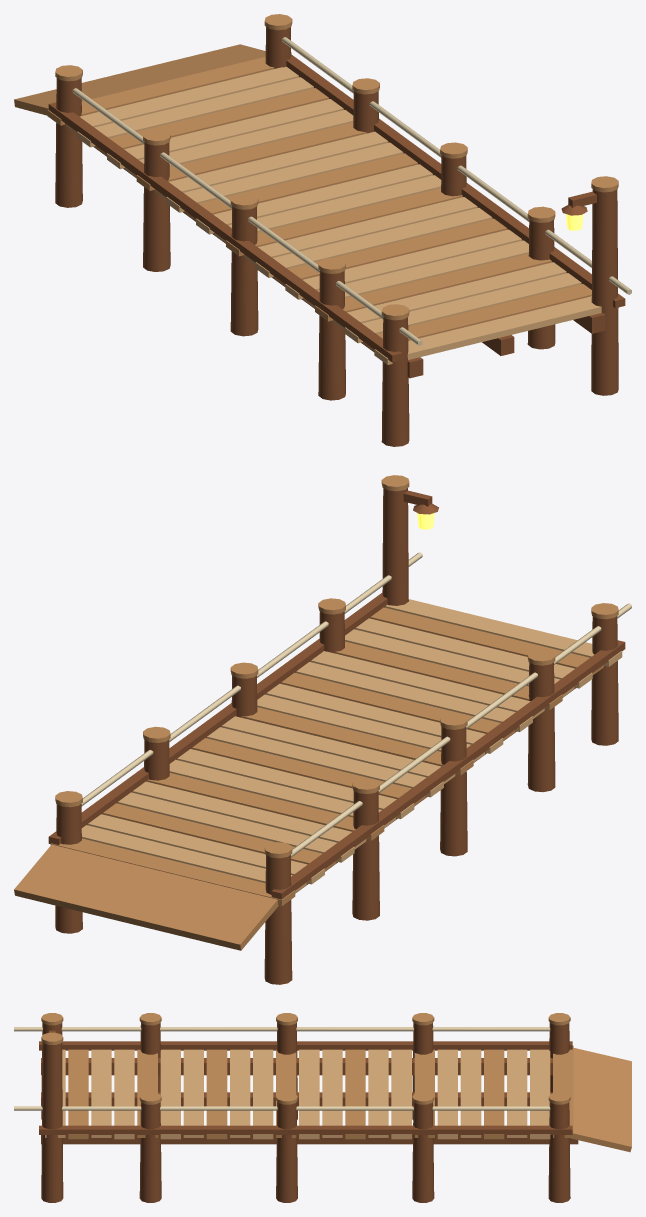
3 renders of one model, top to bottom at view 1: azimuth 30°, elevation 25°; view 2: azimuth 150°, elevation 25°; view 3: azimuth 270°, elevation 25°, orthographic. The views are drawn at different scales.
Visible parts, largest first — view 1: __optimized_merged_material_2, __optimized_merged_material_0, __optimized_merged_material_1, __optimized_merged_material_4; view 2: __optimized_merged_material_2, __optimized_merged_material_1, __optimized_merged_material_0, __optimized_merged_material_4; view 3: __optimized_merged_material_0, __optimized_merged_material_2, __optimized_merged_material_1, __optimized_merged_material_4.
Part boxes in pixels (x1,y1,x2,y2): __optimized_merged_material_2: [65, 66, 618, 364]; __optimized_merged_material_0: [48, 27, 625, 446]; __optimized_merged_material_1: [14, 14, 618, 351]; __optimized_merged_material_4: [72, 37, 631, 345]; __optimized_merged_material_2: [81, 599, 622, 892]; __optimized_merged_material_1: [14, 475, 618, 950]; __optimized_merged_material_0: [48, 488, 625, 984]; __optimized_merged_material_4: [81, 552, 631, 857]; __optimized_merged_material_0: [39, 1022, 578, 1202]; __optimized_merged_material_2: [45, 1049, 550, 1139]; __optimized_merged_material_1: [41, 1013, 631, 1152]; __optimized_merged_material_4: [14, 1027, 550, 1110].
Size of the model in its own units: 2.78 by 2.35 by 8.16.
